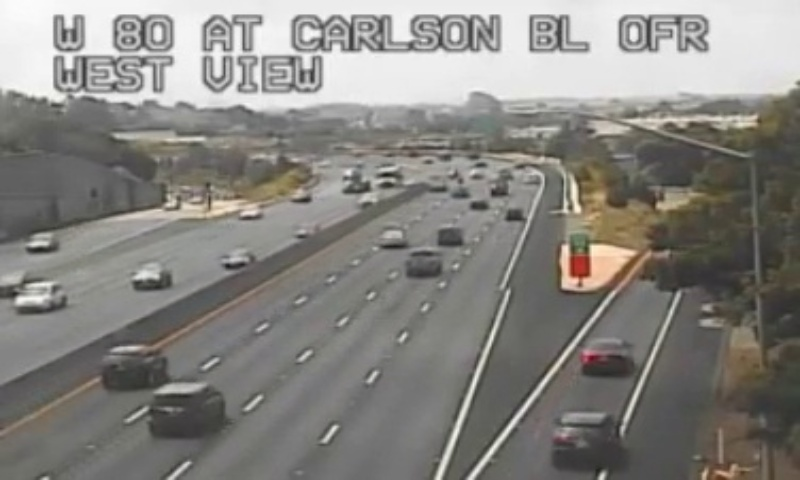car: (146, 382, 223, 433), (553, 411, 619, 469), (102, 344, 165, 387), (580, 339, 631, 375), (406, 249, 440, 276)
